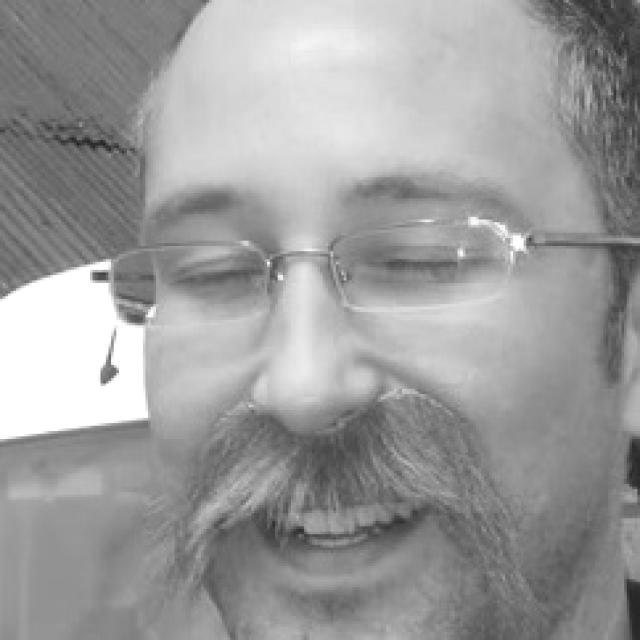real: (146, 4, 626, 640), (166, 218, 500, 320)
